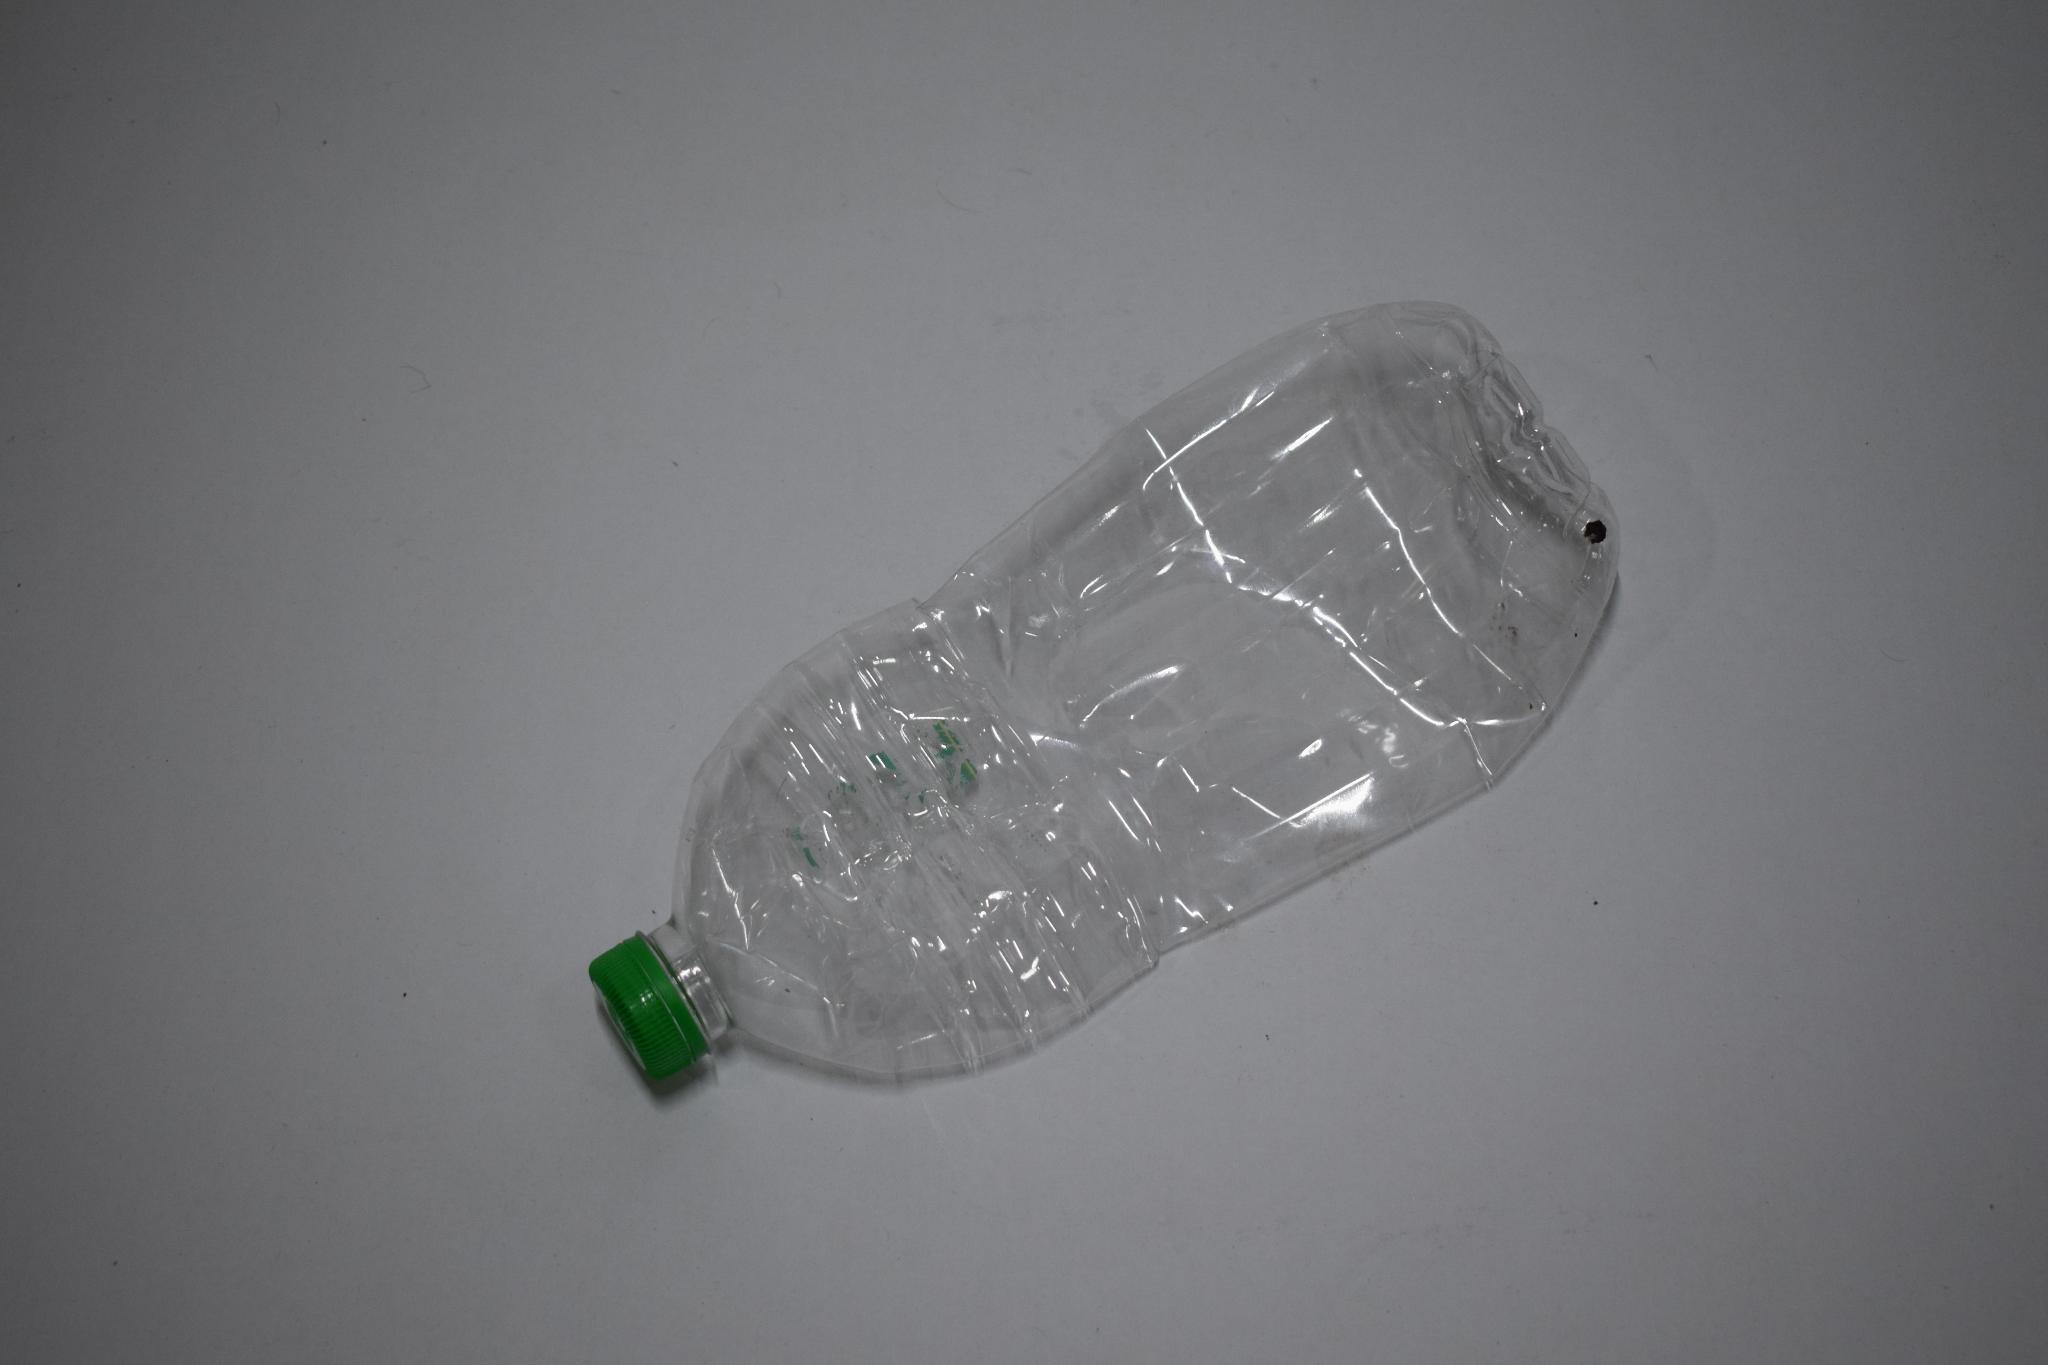bottle: (563, 281, 1635, 1157)
